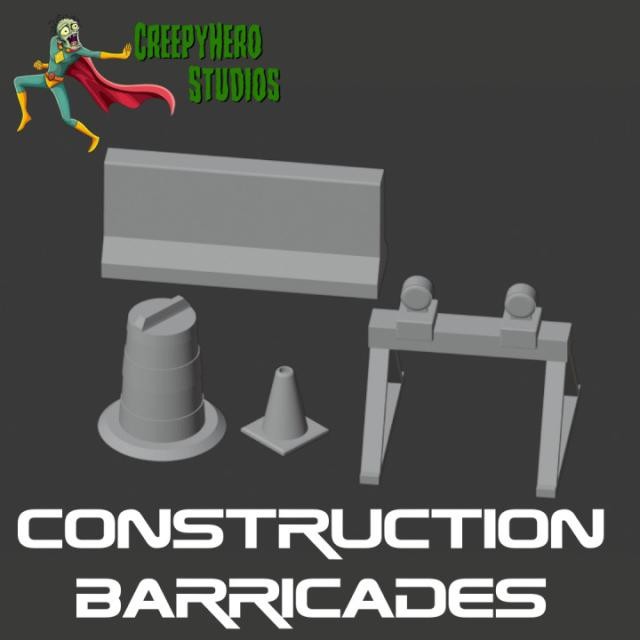cone: (358, 279, 580, 499), (100, 146, 386, 300)
